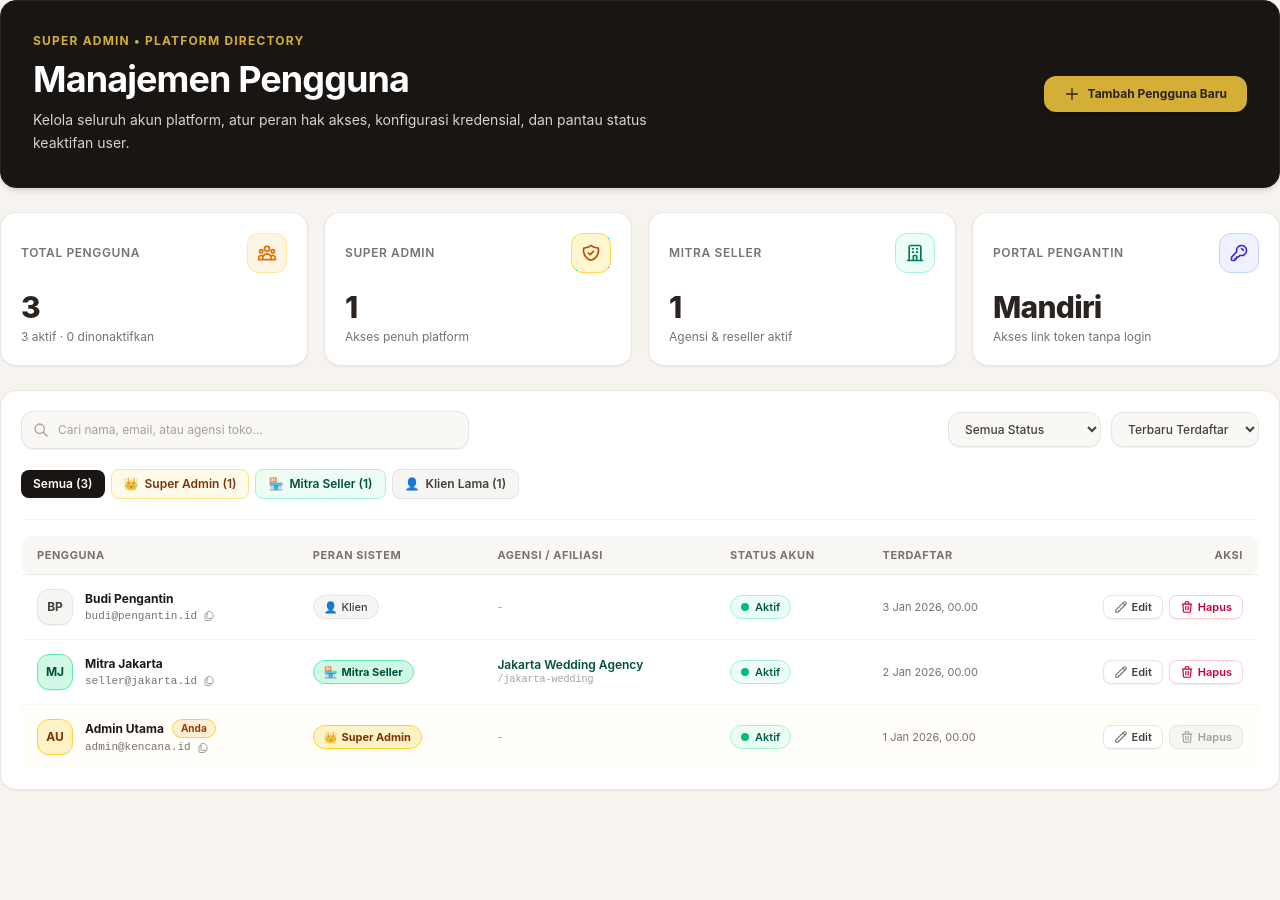
UserManager Component (Super Admin) › opens create user modal when clicking Tambah Pengguna Baru button
The width and height of the screenshot is (1280, 900).
Click the button "Tambah Pengguna Baru": click(1145, 94) [1044,76,1247,112]
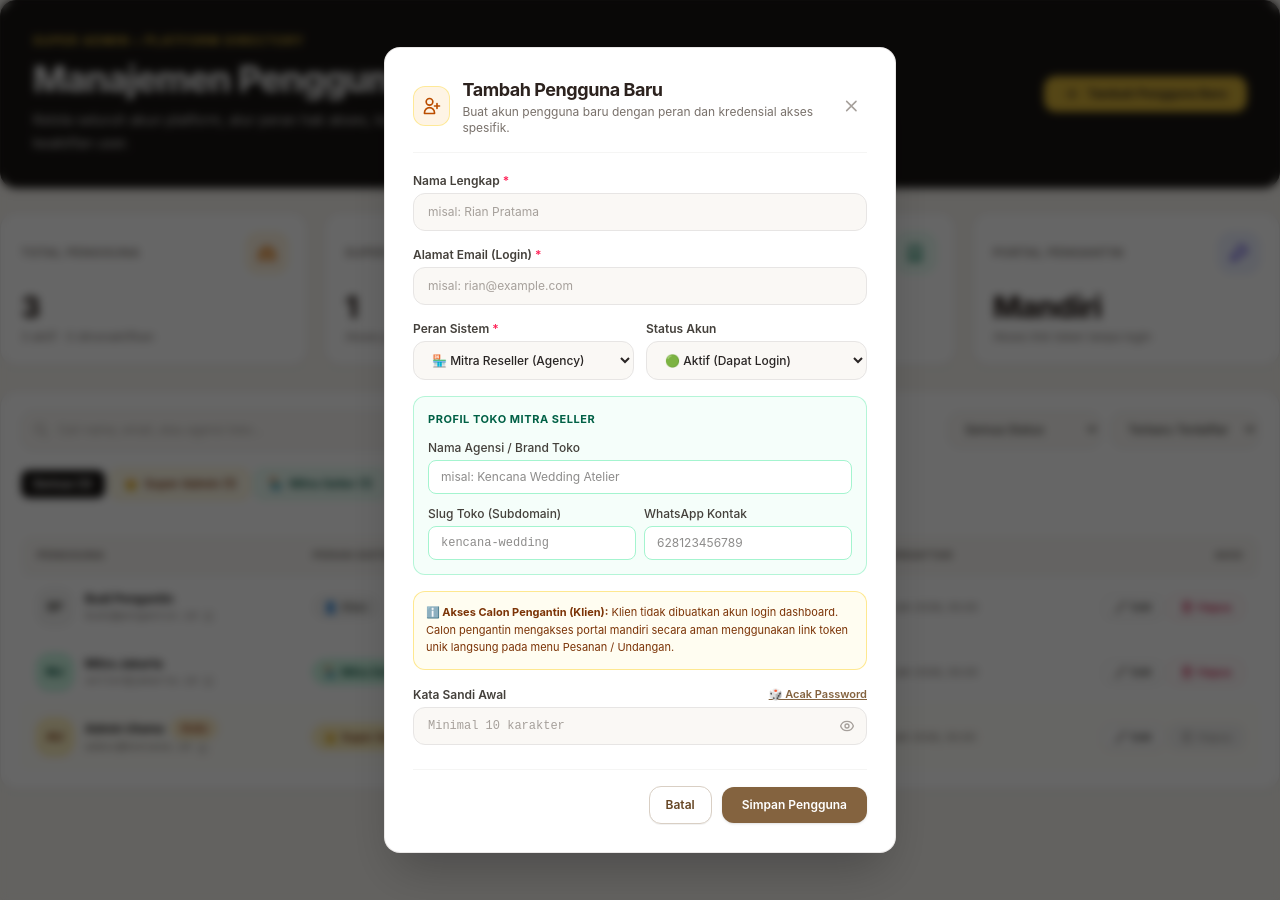
Expected: the dialog is shown
Expected: the field labelled "Nama Lengkap *" is shown, [413,193,867,231]
Expected: the field labelled "Alamat Email (Login) *" is shown, [413,267,867,305]
